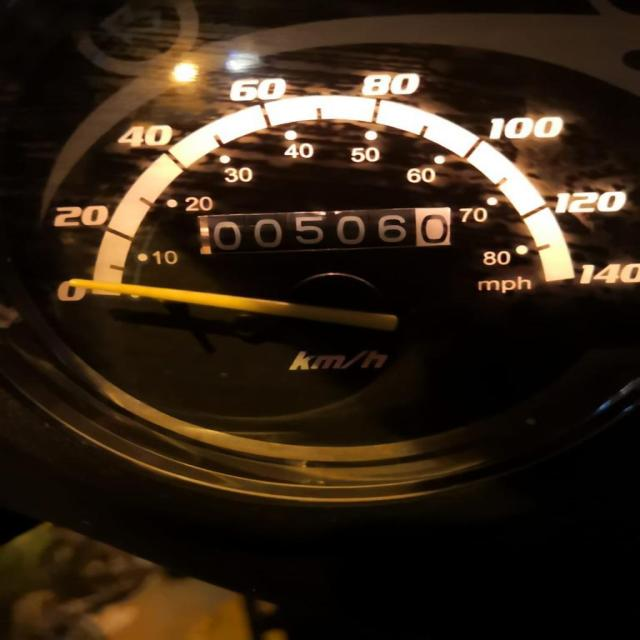odometer: (193, 204, 454, 256)
